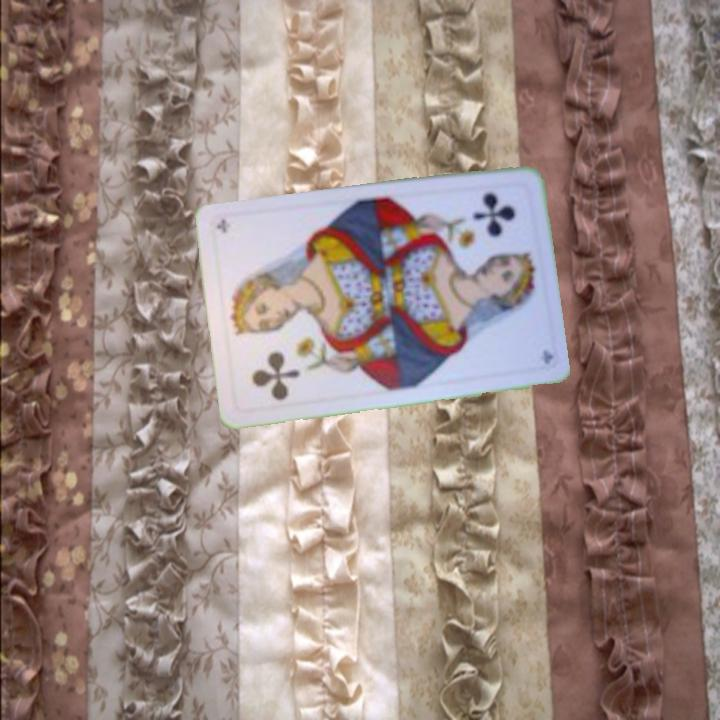c_q.png: (443, 178, 541, 288), (222, 302, 320, 412)
